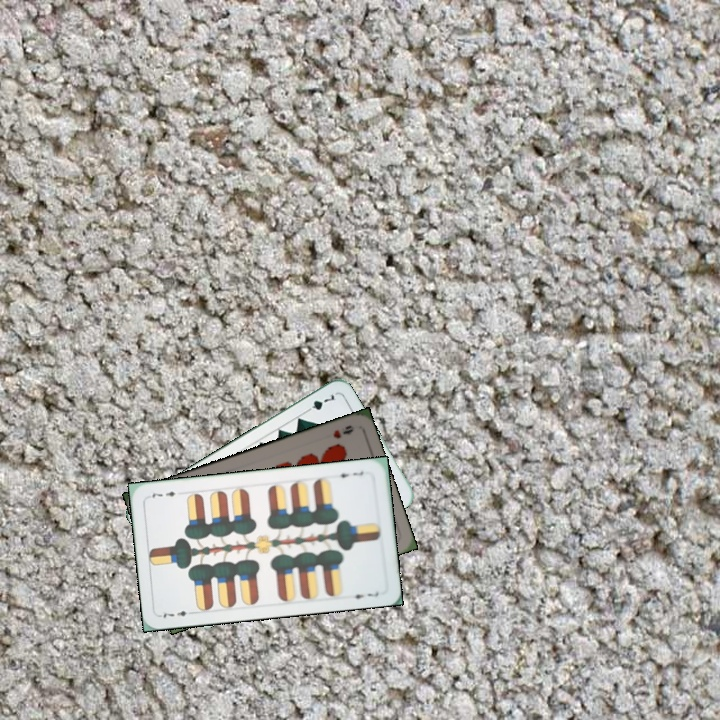E7: (332, 467, 366, 480), (157, 607, 189, 620)
G7: (301, 390, 338, 416)
H9: (329, 421, 357, 441)
